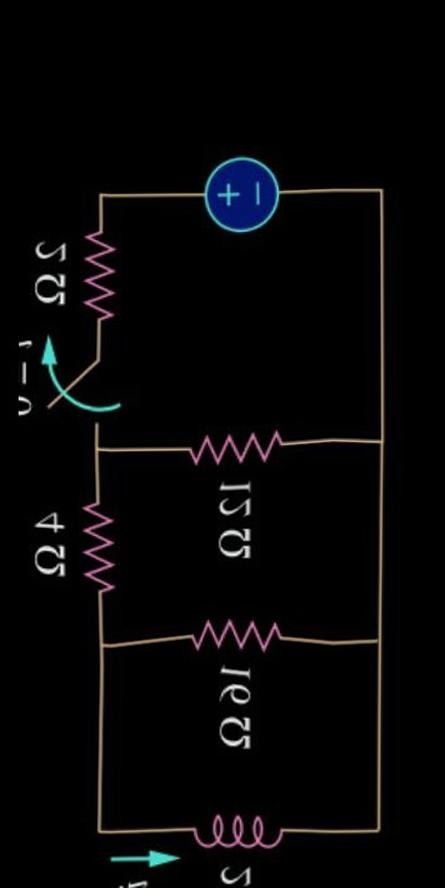Battery: (185, 127, 301, 250)
